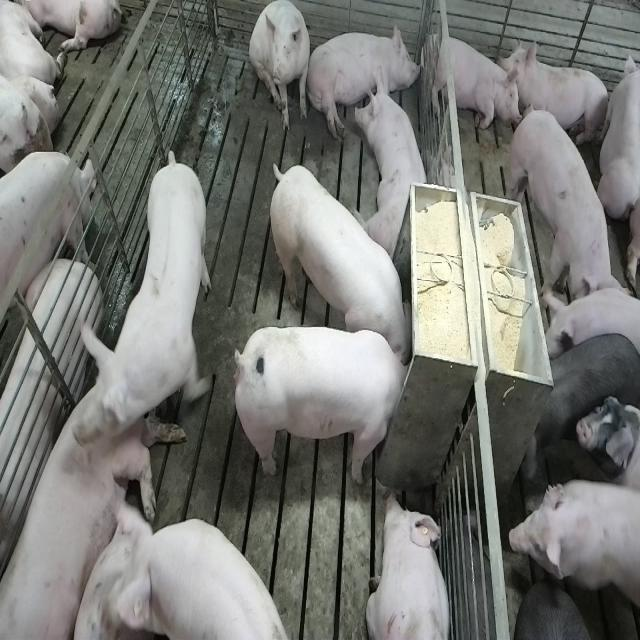Feeding: (265, 160, 411, 360), (240, 324, 418, 485)
Lateral_lying: (306, 21, 424, 140)
Sitting: (250, 2, 312, 133)
Standing: (80, 146, 214, 455), (509, 103, 623, 315), (508, 478, 638, 640), (142, 513, 298, 639), (0, 156, 94, 350), (533, 332, 639, 452), (541, 287, 640, 366), (514, 583, 616, 640)
Sternal_lying: (0, 372, 152, 634), (356, 70, 433, 258), (366, 490, 453, 640), (506, 37, 612, 152), (424, 30, 516, 136)
